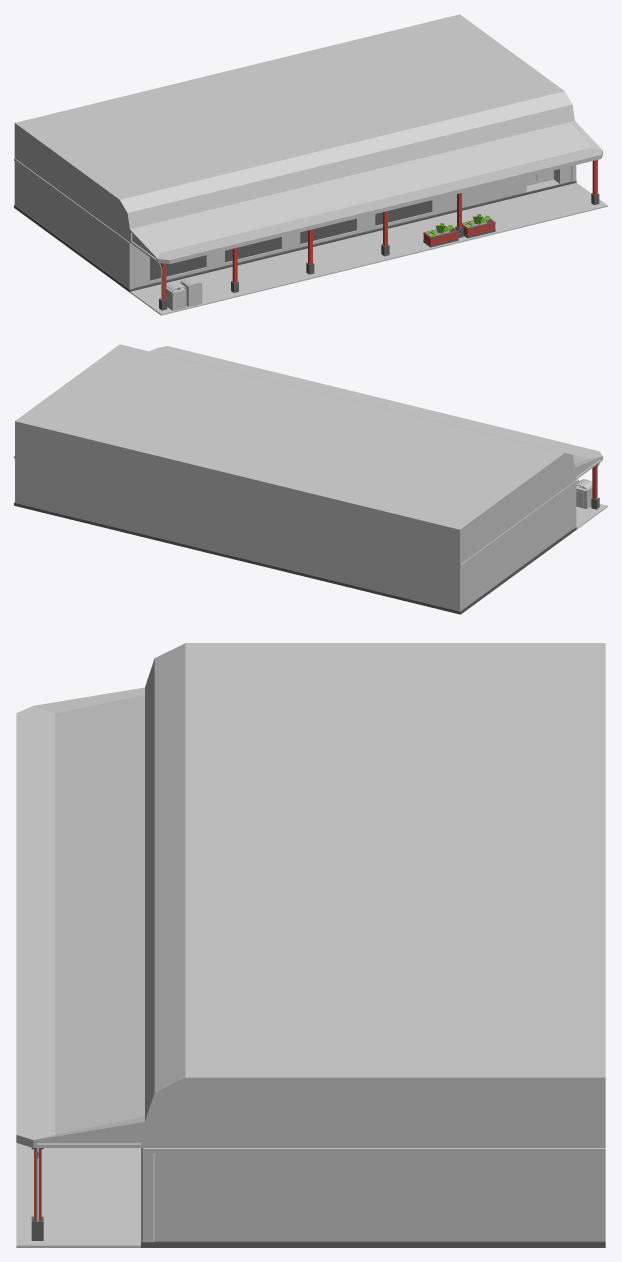
The model's file is SupermarketImproved.fbx.
The picture shows the model from 3 angles, top to bottom: view 1: azimuth 30°, elevation 25°; view 2: azimuth 150°, elevation 25°; view 3: azimuth 270°, elevation 25°; orthographic projection. The views are drawn at different scales.
Visible parts, largest first — view 1: Cube, Cube.003, Cube.004, Cube.002, Cube.001; view 2: Cube, Cube.002; view 3: Cube.
Boxes of the visible parts, x1,y1,x2,y2 form: Cube: (14,14,607,315); Cube.003: (423,223,458,247); Cube.004: (462,214,495,238); Cube.002: (166,281,186,310); Cube.001: (180,277,202,306); Cube: (14,344,607,614); Cube.002: (576,479,592,508); Cube: (16,643,605,1247).
Bounding box in the file's own units: 16448 × 2982 × 9396.
